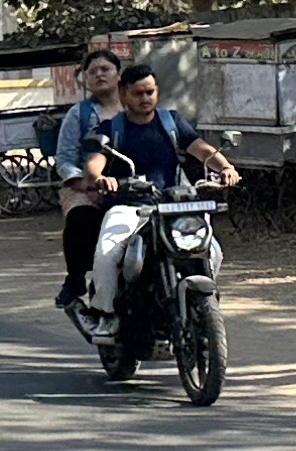BikeWithRider: (46, 43, 249, 411)
NoHelmet: (113, 60, 169, 118), (75, 45, 127, 101)
